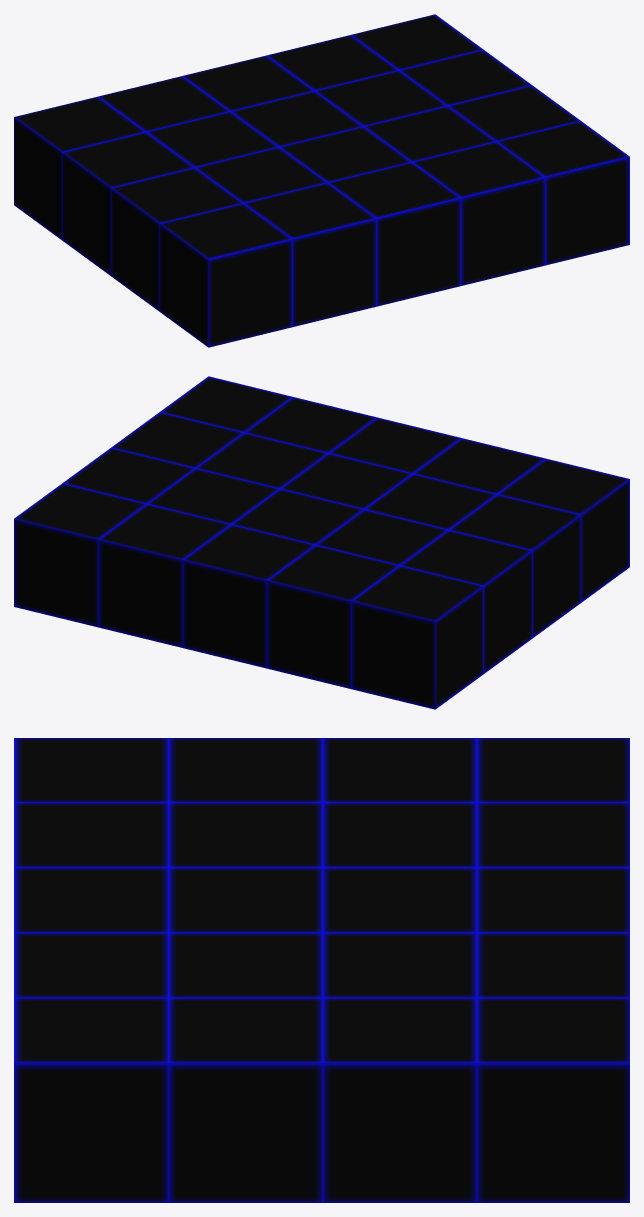
3 renders of one model, top to bottom at view 1: azimuth 30°, elevation 25°; view 2: azimuth 150°, elevation 25°; view 3: azimuth 270°, elevation 25°, orthographic. The views are drawn at different scales.
Parts seen in each view (by area): view 1: Box001; view 2: Box001; view 3: Box001.
Part boxes in pixels (left/top/right/bottom): Box001: left=14, top=14, right=629, bottom=347; Box001: left=14, top=376, right=629, bottom=709; Box001: left=14, top=738, right=629, bottom=1202.
Size of the model in its own units: 5 by 1 by 4.
Materials: 1 (1 with a texture image).
